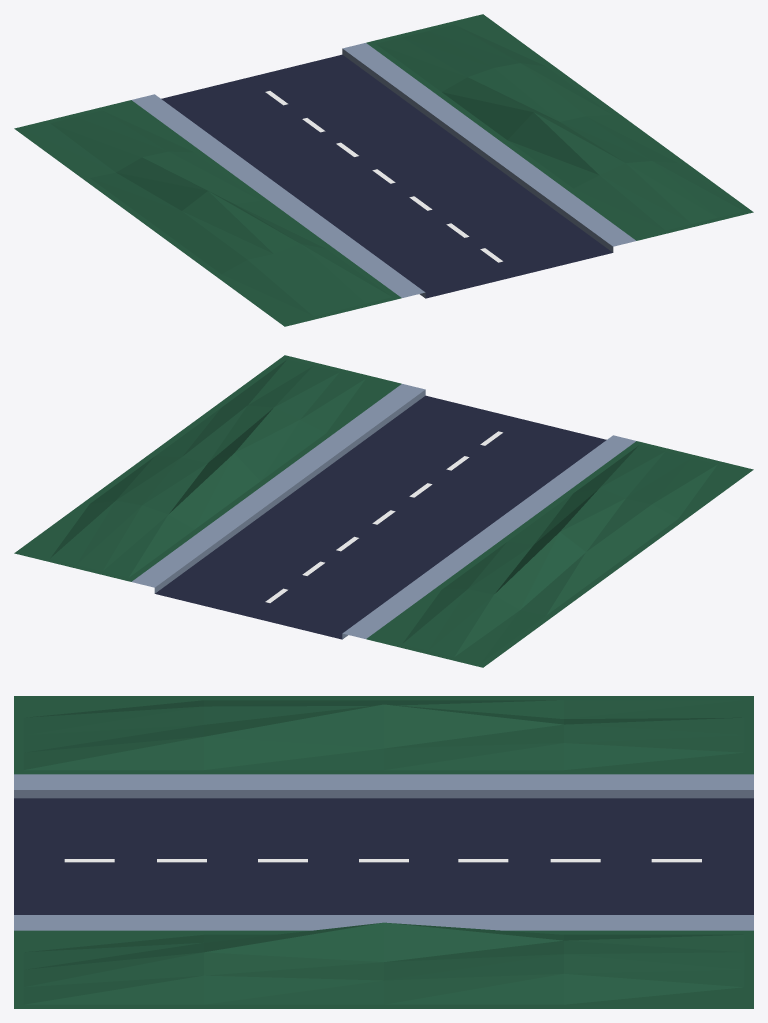
Rendered from Road1.fbx.
3 renders of one model, top to bottom at view 1: azimuth 30°, elevation 25°; view 2: azimuth 150°, elevation 25°; view 3: azimuth 270°, elevation 25°, orthographic. The views are drawn at different scales.
Visible parts, largest first — view 1: Road1; view 2: Road1; view 3: Road1.
Boxes of the visible parts, x1,y1,x2,y2 form: Road1: [14, 14, 753, 326]; Road1: [14, 355, 753, 667]; Road1: [14, 696, 753, 1008].
Size of the model in its own units: 20 by 1.17 by 20.
